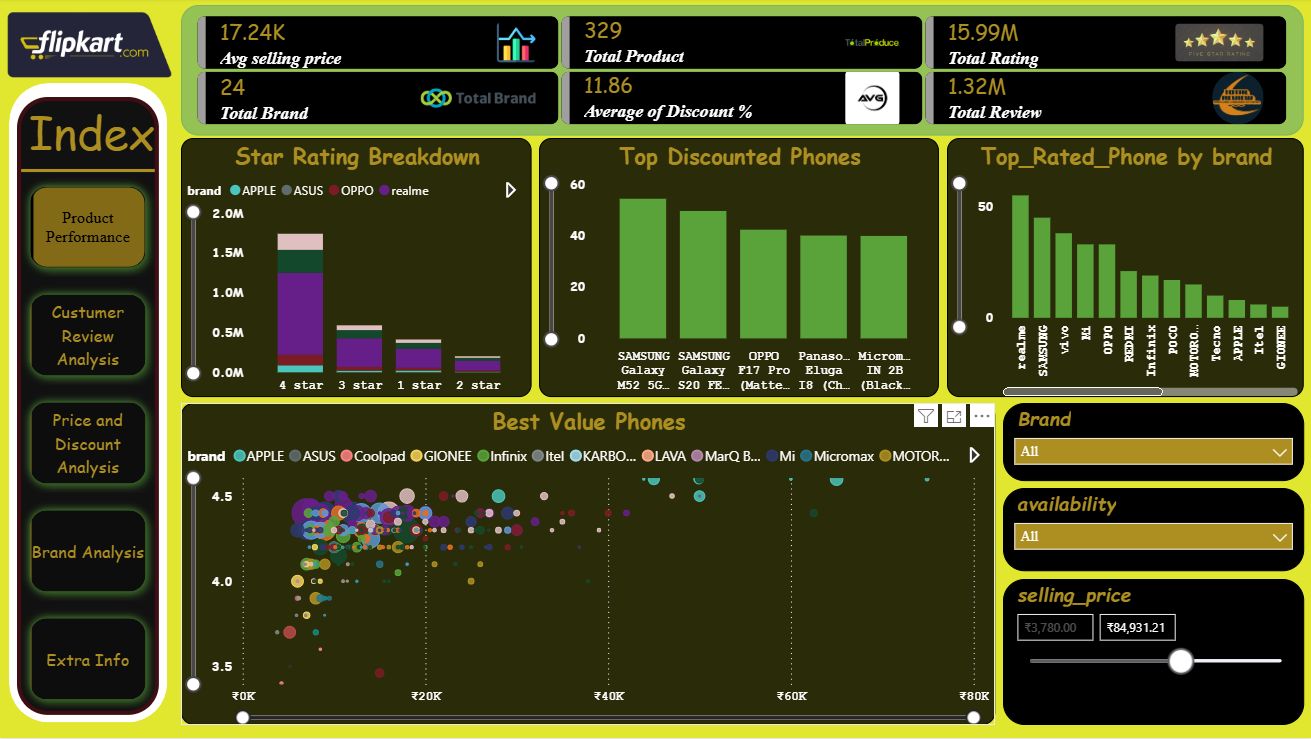

What the dashboard file says about the page in this screenshot:
{"tool":"powerbi","page":{"name":"Product Performance","canvas":[1280,720],"ordinal":0},"visuals":[{"type":"shape","box":[21.4,82.7,154,622],"z":0},{"type":"image","box":[10,0,178,91],"z":1000},{"type":"columnChart","title":"Star Rating Breakdown","fields":{"Category":["Star Ratings.Rating"],"Series":["flipkart_smartphones_2022_03_26_2333_IST.brand"],"Y":["flipkart_smartphones_2022_03_26_2333_IST.Star Count"]},"box":[187.7,134.2,341.4,251.9],"z":2000},{"type":"columnChart","title":"Top Discounted Phones","fields":{"Category":["flipkart_smartphones_2022_03_26_2333_IST.title"],"Y":["Sum(flipkart_smartphones_2022_03_26_2333_IST.Discount %)"]},"box":[535.9,136.2,389.1,251.9],"z":3000},{"type":"scatterChart","title":"Best Value Phones","fields":{"Y":["Avg(flipkart_smartphones_2022_03_26_2333_IST.avg_rating)"],"X":["flipkart_smartphones_2022_03_26_2333_IST.selling_price"],"Size":["Sum(flipkart_smartphones_2022_03_26_2333_IST.reviews_count)"],"Series":["flipkart_smartphones_2022_03_26_2333_IST.brand"]},"box":[188,394,792,313],"z":4000},{"type":"slicer","fields":{"Values":["flipkart_smartphones_2022_03_26_2333_IST.brand"]},"box":[987.2,393.9,292.8,75.9],"z":5000},{"type":"slicer","fields":{"Values":["flipkart_smartphones_2022_03_26_2333_IST.availability"]},"box":[987,476,293,81],"z":6000},{"type":"slicer","fields":{"Values":["flipkart_smartphones_2022_03_26_2333_IST.selling_price"]},"box":[987,565,293,142],"z":7000},{"type":"clusteredColumnChart","title":" Top_Rated_Phone by brand","fields":{"Category":["flipkart_smartphones_2022_03_26_2333_IST.brand"],"Y":["CountNonNull(flipkart_smartphones_2022_03_26_2333_IST.Top_Rated_Phone)"]},"box":[932.8,136.2,340.4,251.9],"z":8000},{"type":"cardVisual","fields":{"Data":["flipkart_smartphones_2022_03_26_2333_IST.Avg selling price","flipkart_smartphones_2022_03_26_2333_IST.Total Product","flipkart_smartphones_2022_03_26_2333_IST.Total Rating","flipkart_smartphones_2022_03_26_2333_IST.Total Brand","Avg(flipkart_smartphones_2022_03_26_2333_IST.Discount %)","flipkart_smartphones_2022_03_26_2333_IST.Total Review"]},"box":[187.7,6.8,1085.5,127.4],"z":9000},{"type":"pageNavigator","title":"Index","box":[33,96,131,596],"z":10001}]}

Visuals, with their boxes in screenshot pixels (x1, y1, x2, y2), scaled from the page's 1280x720 canvas onto the 1311x739 screenshot:
shape: rect(22, 85, 180, 723)
image: rect(10, 0, 193, 93)
"Star Rating Breakdown" columnChart: rect(192, 138, 542, 396)
"Top Discounted Phones" columnChart: rect(549, 140, 947, 398)
"Best Value Phones" scatterChart: rect(193, 404, 1004, 726)
slicer - flipkart_smartphones_2022_03_26_2333_IST.brand: rect(1011, 404, 1310, 482)
slicer - flipkart_smartphones_2022_03_26_2333_IST.availability: rect(1011, 489, 1310, 572)
slicer - flipkart_smartphones_2022_03_26_2333_IST.selling_price: rect(1011, 580, 1310, 726)
" Top_Rated_Phone by brand" clusteredColumnChart: rect(955, 140, 1304, 398)
cardVisual - flipkart_smartphones_2022_03_26_2333_IST.Avg selling price x flipkart_smartphones_2022_03_26_2333_IST.Total Product: rect(192, 7, 1304, 138)
"Index" pageNavigator: rect(34, 99, 168, 710)
